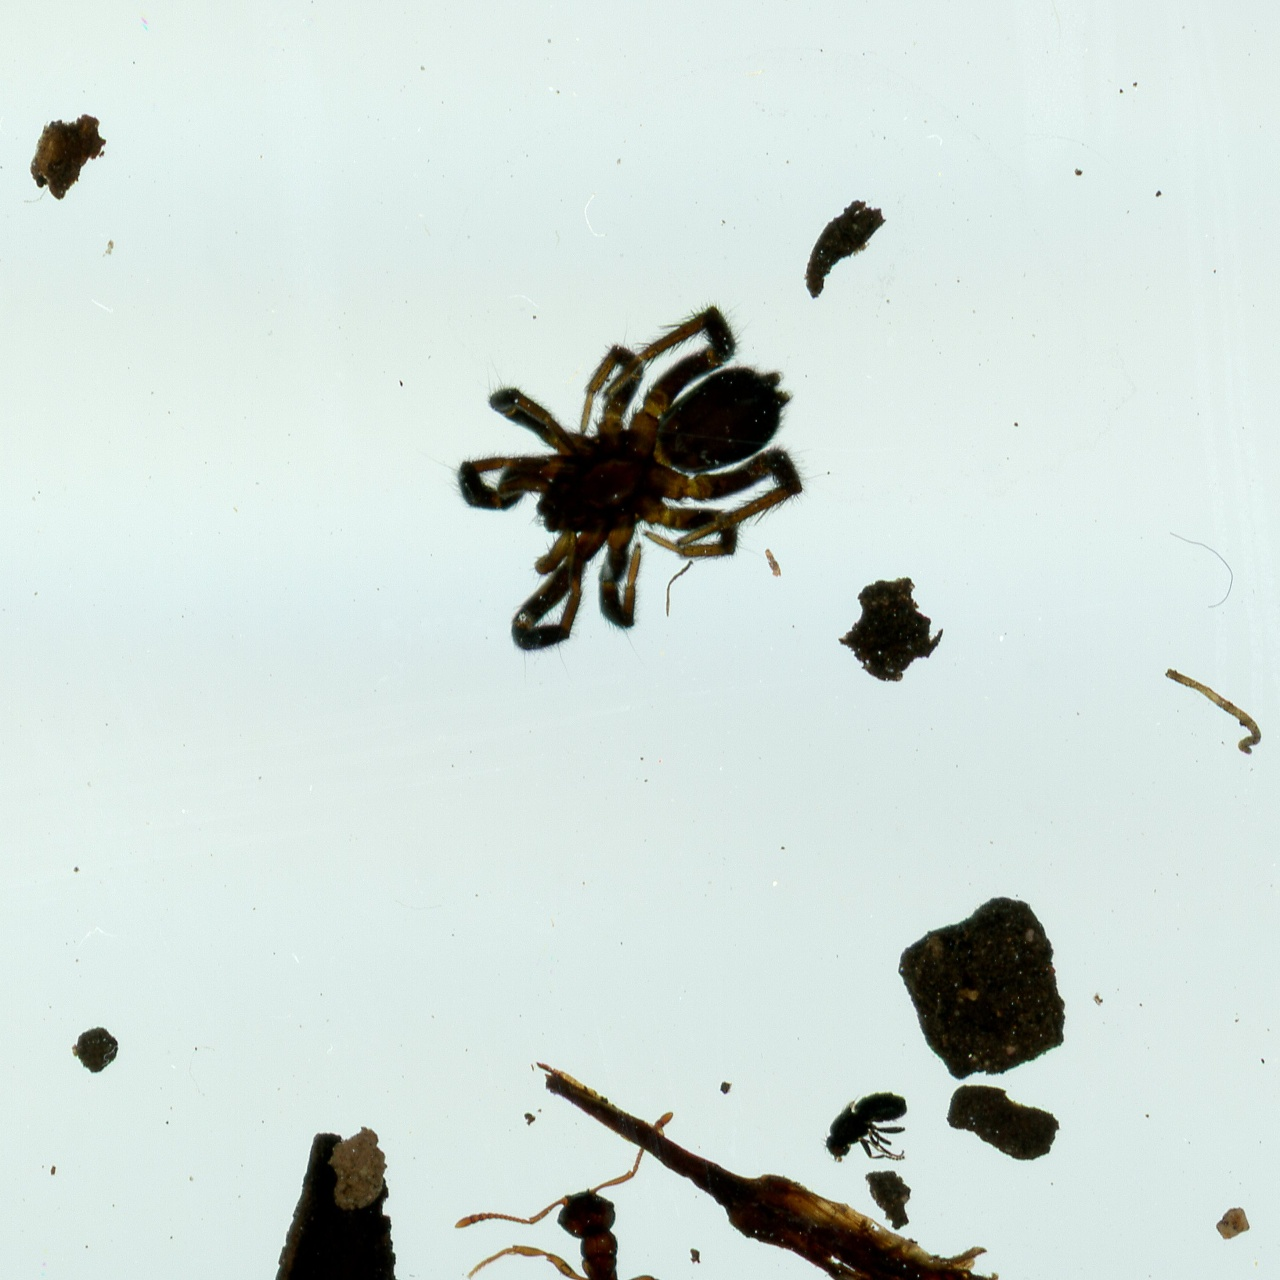arthropod: (342, 204, 892, 741), (451, 1105, 715, 1280), (816, 1084, 913, 1171)
